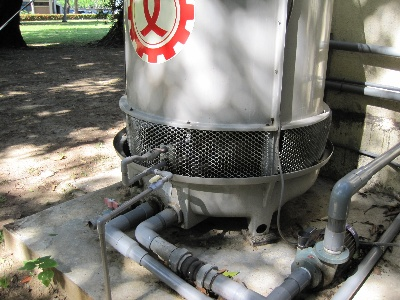water_tower: (112, 1, 333, 232)
